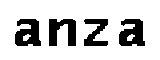a: (115, 18, 150, 49), (12, 17, 43, 49)
n: (45, 17, 79, 48)
z: (80, 16, 110, 49)
